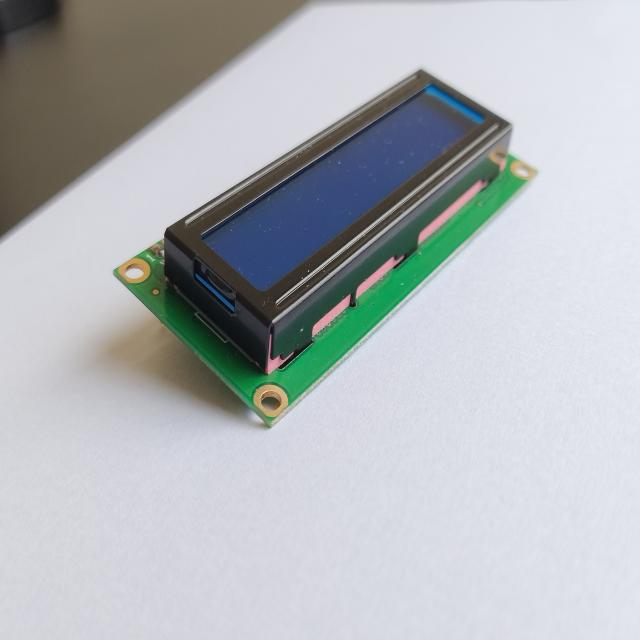lcd: (105, 52, 540, 454)
